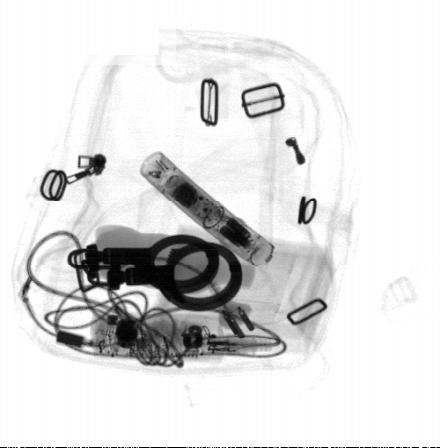Baton: (138, 149, 276, 267)
HandCuffs: (80, 233, 244, 313)
